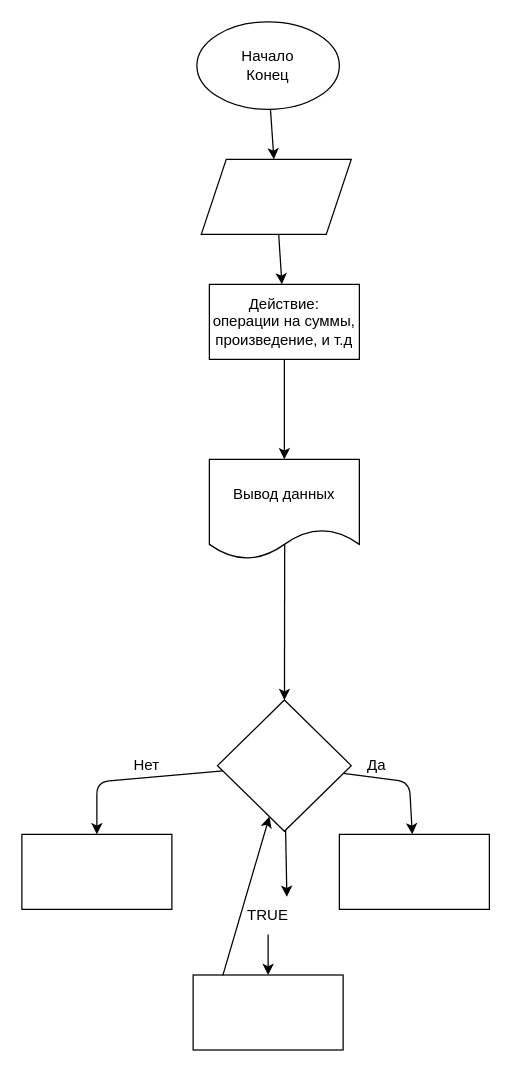
Image size: 511x1073. Some labels were removed from this diagram. The shapes that lost their labels are listed below. From the top down, each one's centre as x and y in pixels, then its label:
At point (275, 196): "Ввод данных".
At point (283, 765): "Условие".
